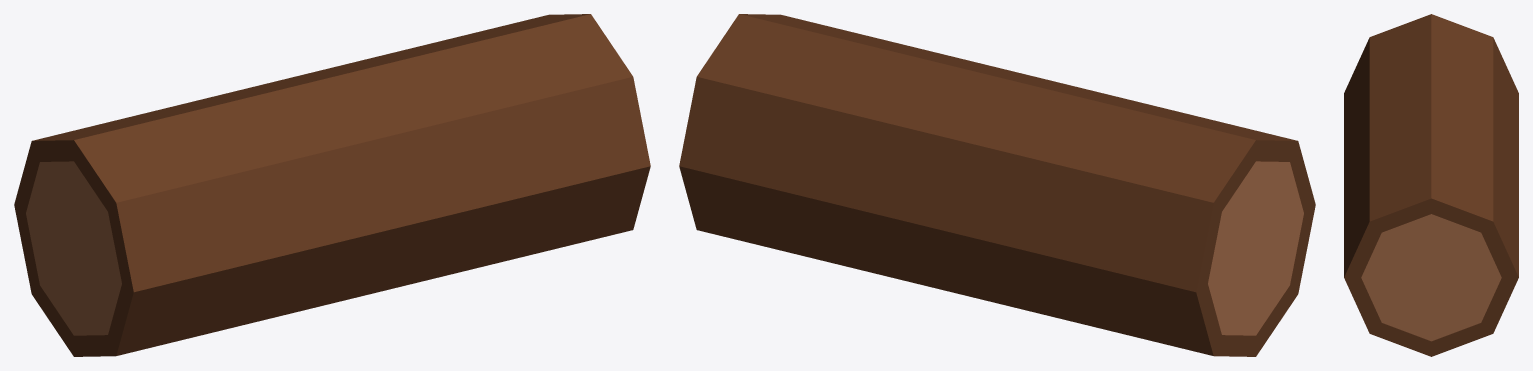
The model's file is Col_Log.fbx.
3 views of the same model, side by side, from view 1: azimuth 30°, elevation 25°; view 2: azimuth 150°, elevation 25°; view 3: azimuth 270°, elevation 25° (orthographic). The views are drawn at different scales.
Parts seen in each view (by area): view 1: Col_Wood; view 2: Col_Wood; view 3: Col_Wood.
Boxes of the visible parts, left/top/right/bottom form: Col_Wood: left=14, top=14, right=650, bottom=356; Col_Wood: left=679, top=14, right=1315, bottom=356; Col_Wood: left=1344, top=14, right=1518, bottom=356.
Bounding box in the file's own units: 50 × 20.04 × 20.04.
